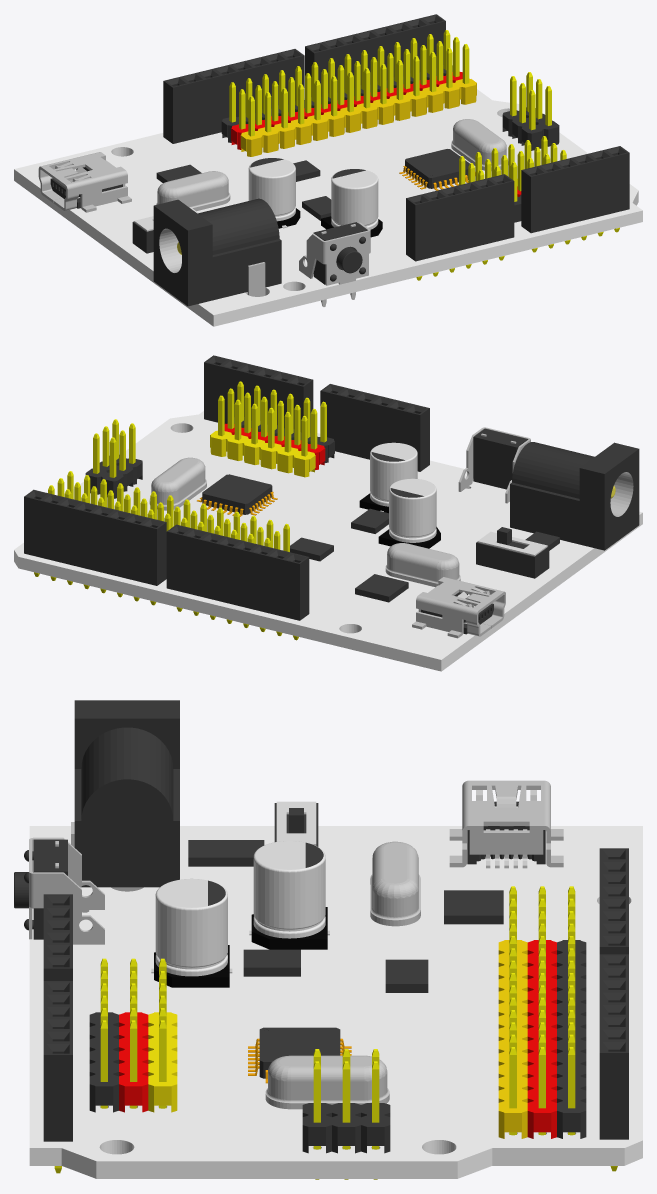
File: arduino_uno.glb
3 renders of one model, top to bottom at view 1: azimuth 30°, elevation 25°; view 2: azimuth 150°, elevation 25°; view 3: azimuth 270°, elevation 25°, orthographic. The views are drawn at different scales.
Visible parts, largest first — view 1: freaduino-uno_2, freaduino-uno, freaduino-uno_1, freaduino-uno_6, freaduino-uno_4, freaduino-uno_3, freaduino-uno_12, freaduino-uno_5, freaduino-uno_11; view 2: freaduino-uno_2, freaduino-uno, freaduino-uno_1, freaduino-uno_6, freaduino-uno_3, freaduino-uno_12, freaduino-uno_13, freaduino-uno_11, freaduino-uno_10, freaduino-uno_5, freaduino-uno_9; view 3: freaduino-uno, freaduino-uno_2, freaduino-uno_6, freaduino-uno_3, freaduino-uno_12, freaduino-uno_1, freaduino-uno_5, freaduino-uno_4, freaduino-uno_13, freaduino-uno_11, freaduino-uno_10.
Boxes of the visible parts, x1,y1,x2,y2 form: freaduino-uno_2: [153, 14, 629, 306]; freaduino-uno: [14, 89, 642, 326]; freaduino-uno_1: [229, 30, 619, 280]; freaduino-uno_6: [38, 119, 508, 306]; freaduino-uno_4: [240, 78, 476, 156]; freaduino-uno_3: [50, 65, 469, 253]; freaduino-uno_12: [248, 159, 378, 229]; freaduino-uno_5: [231, 72, 521, 196]; freaduino-uno_11: [277, 208, 382, 237]; freaduino-uno_2: [24, 355, 639, 620]; freaduino-uno: [14, 411, 642, 671]; freaduino-uno_1: [34, 381, 326, 640]; freaduino-uno_6: [149, 427, 633, 638]; freaduino-uno_3: [202, 452, 559, 634]; freaduino-uno_12: [370, 442, 436, 542]; freaduino-uno_13: [210, 430, 315, 477]; freaduino-uno_11: [359, 493, 440, 548]; freaduino-uno_10: [477, 531, 547, 556]; freaduino-uno_5: [224, 423, 325, 470]; freaduino-uno_9: [197, 491, 277, 516]; freaduino-uno: [29, 826, 642, 1178]; freaduino-uno_2: [14, 700, 628, 1153]; freaduino-uno_6: [29, 780, 563, 1109]; freaduino-uno_3: [188, 801, 586, 1138]; freaduino-uno_12: [155, 841, 325, 976]; freaduino-uno_1: [54, 886, 617, 1179]; freaduino-uno_5: [119, 940, 556, 1138]; freaduino-uno_4: [498, 940, 527, 1138]; freaduino-uno_13: [148, 1012, 177, 1112]; freaduino-uno_11: [154, 907, 327, 987]; freaduino-uno_10: [276, 801, 316, 845].
Bounding box in the file's own units: 0.0706 × 0.0153 × 0.0547.
